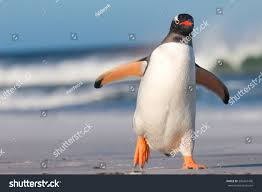Walking: (86, 11, 248, 173)
